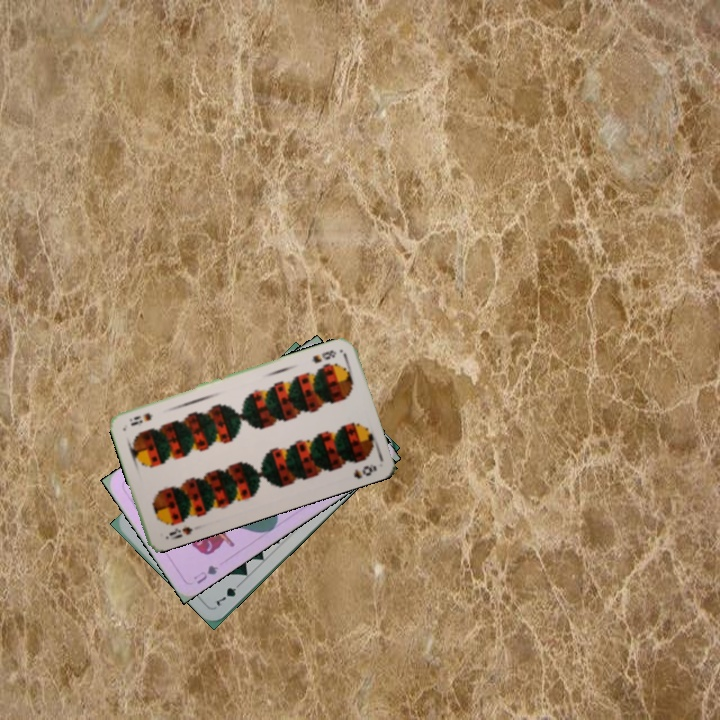G7: (212, 577, 244, 609)
GU: (189, 561, 221, 587)
S8: (307, 346, 339, 366), (165, 523, 195, 542)
